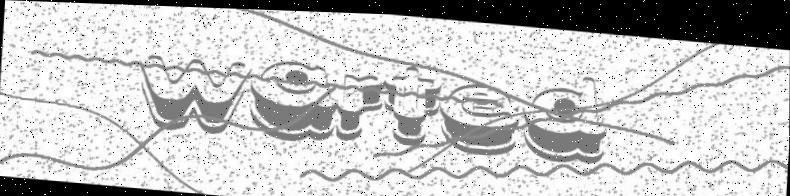a: (248, 51, 340, 140)
d: (517, 64, 618, 163)
e: (438, 73, 524, 155)
r: (333, 62, 385, 142)
t: (384, 58, 444, 145)
w: (133, 45, 253, 135)
